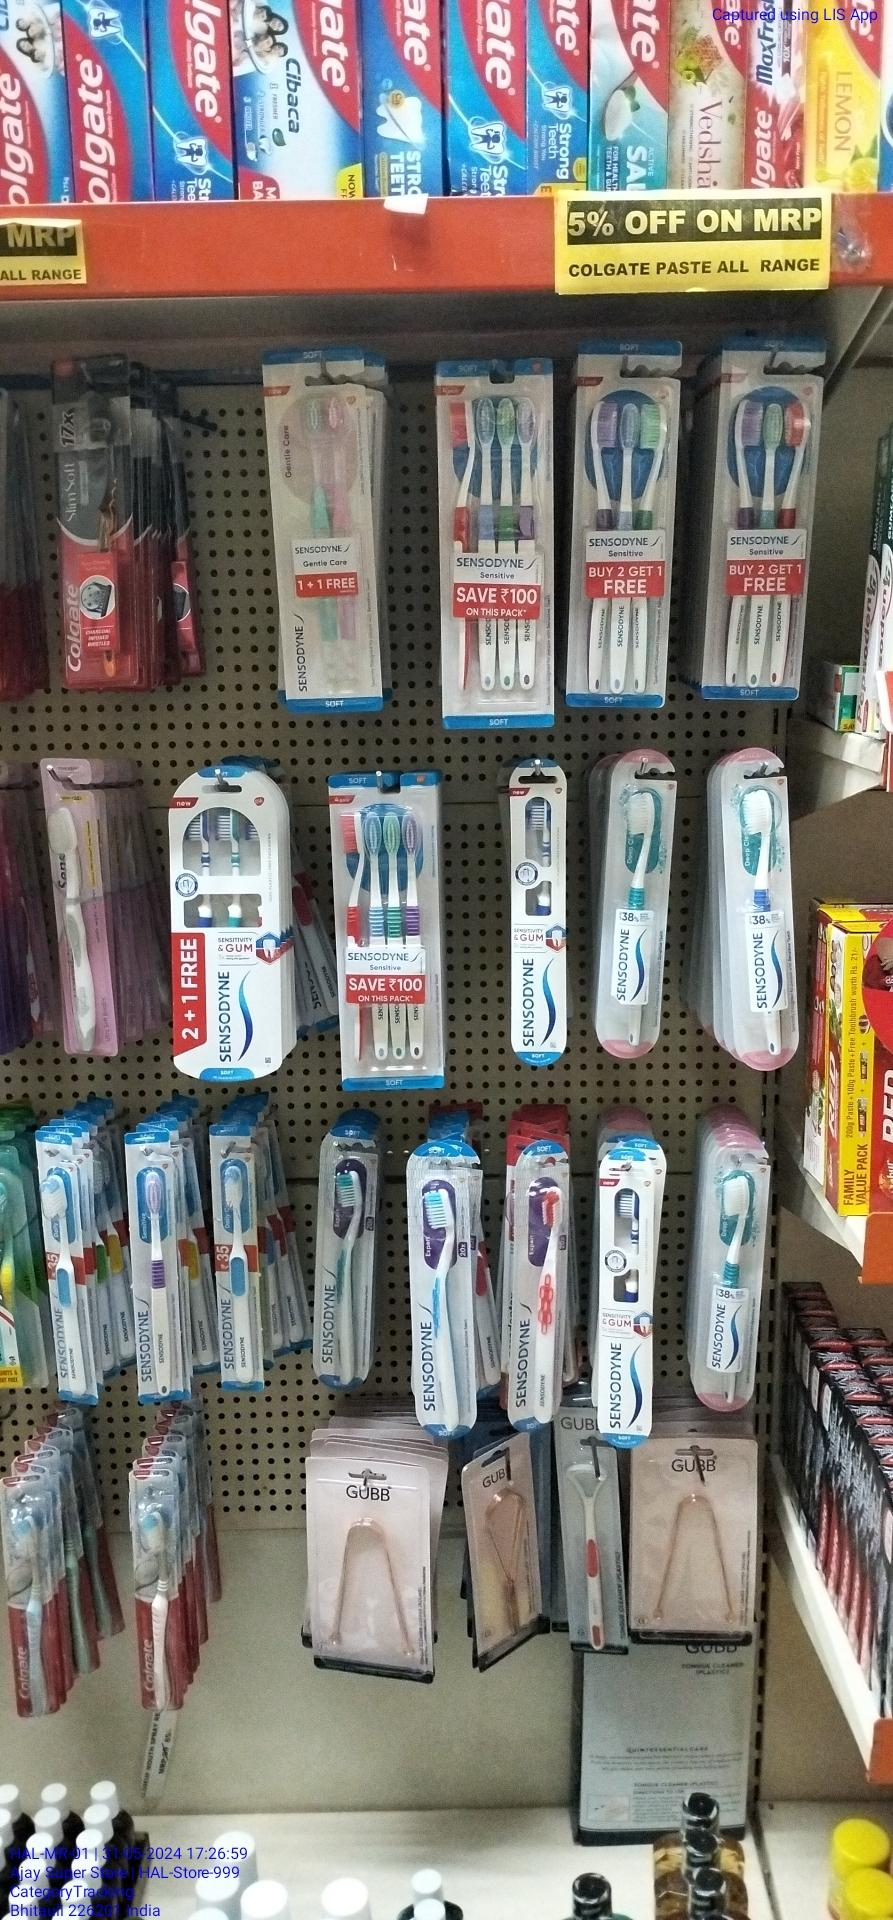14: (436, 361, 555, 731), (326, 776, 446, 1090)
15: (706, 339, 820, 699), (570, 343, 673, 713)
16: (165, 768, 281, 1082)
7: (257, 351, 387, 713)
soap: (56, 361, 141, 687)
